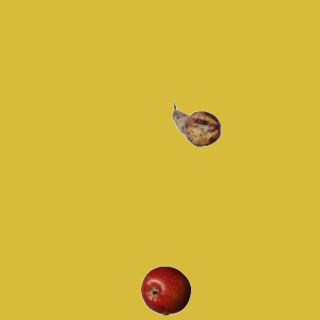Apple Braeburn: (140, 265, 190, 315)
Pear Abate: (171, 99, 221, 149)
